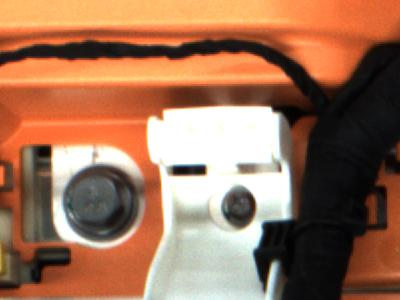nut_b: (57, 158, 147, 253)
